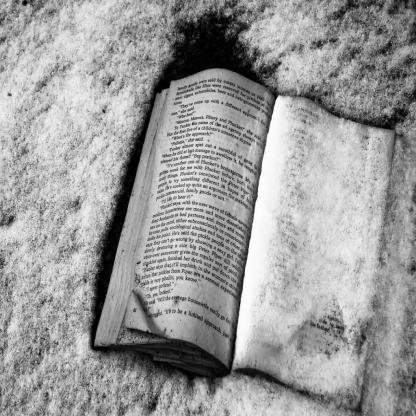book: (90, 73, 395, 414)
